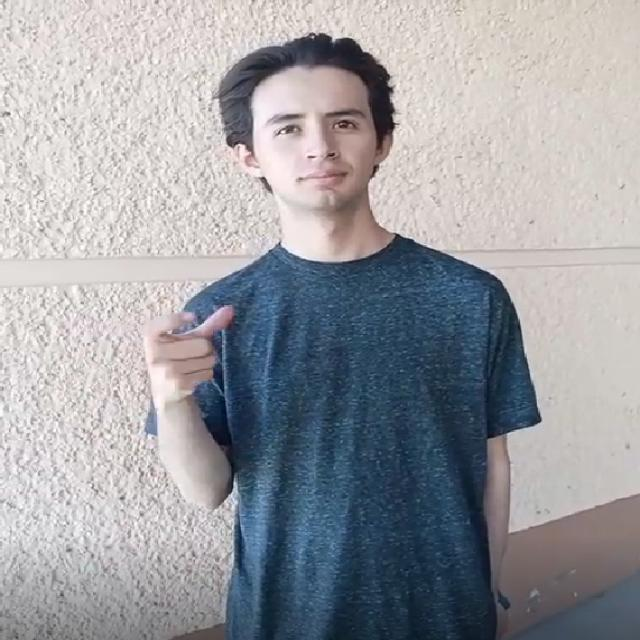X: (117, 288, 256, 411)
